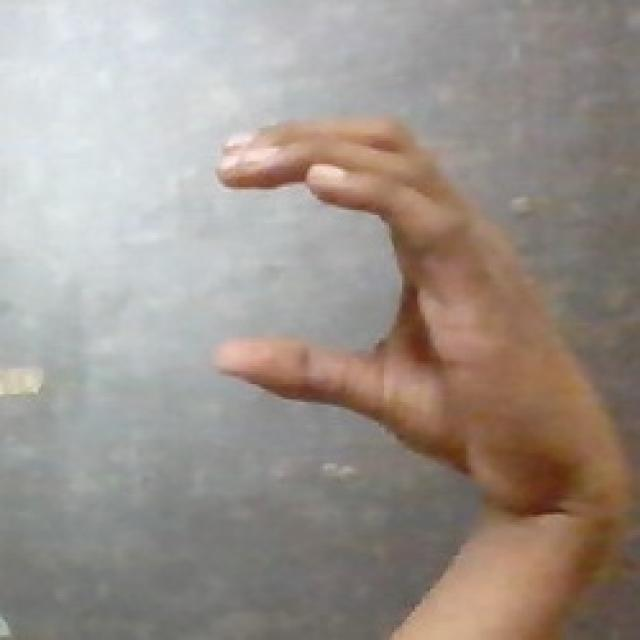Alphabet-C: (195, 102, 553, 476)
